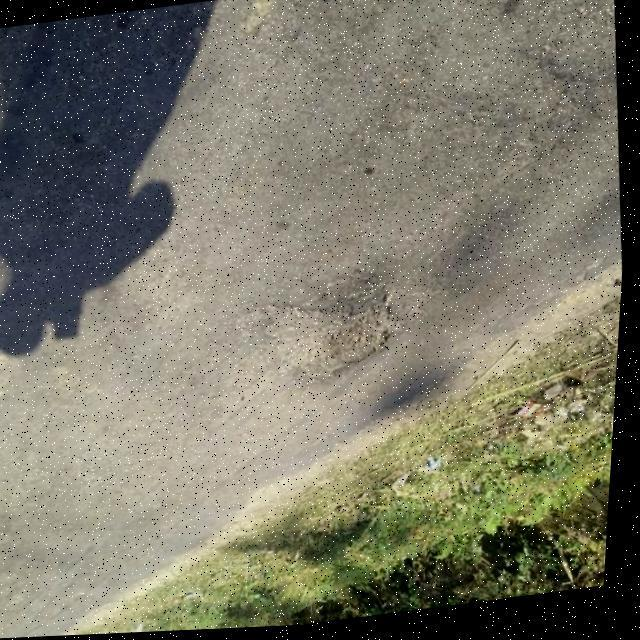pothole: (267, 279, 418, 396)
